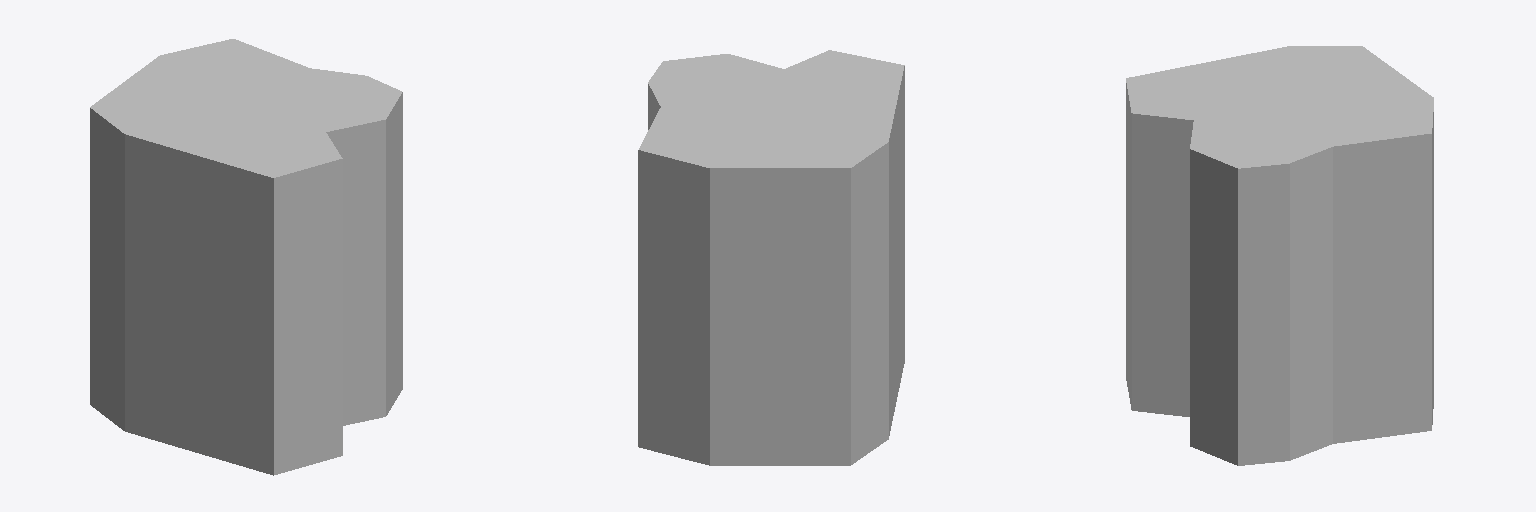
File: small_rock_group_2_col.obj
3 views of the same model, side by side, from view 1: azimuth 30°, elevation 25°; view 2: azimuth 150°, elevation 25°; view 3: azimuth 270°, elevation 25° (orthographic).
Parts seen in each view (by area): view 1: small_rock_group_col; view 2: small_rock_group_col; view 3: small_rock_group_col.
Boxes of the visible parts, box(x1,y1,x2,y2) form: small_rock_group_col: box(90, 39, 402, 475); small_rock_group_col: box(638, 50, 904, 465); small_rock_group_col: box(1126, 46, 1433, 465).
Size of the model in its own units: 4.29 by 4.84 by 4.55.